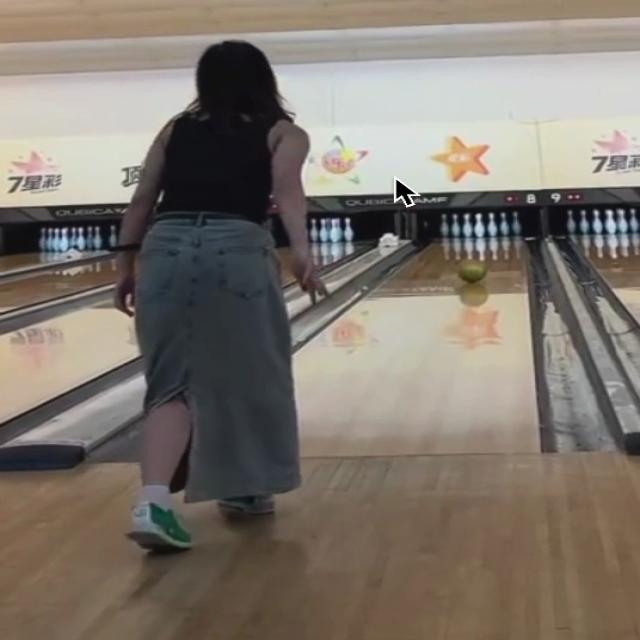alley: (295, 239, 537, 458)
balls: (460, 259, 486, 283)
bottle: (441, 210, 519, 237)
